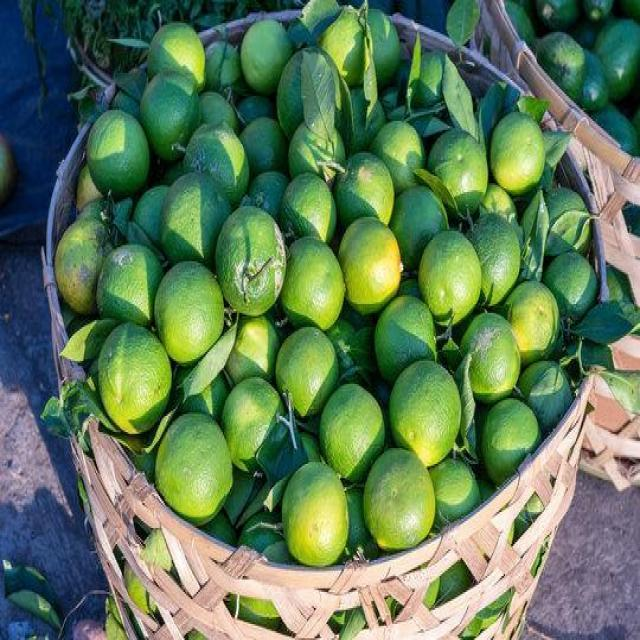Jeruk Belum Matang: (158, 412, 238, 524), (362, 444, 436, 554), (281, 458, 352, 572), (99, 326, 172, 436), (391, 360, 464, 468), (218, 206, 286, 310), (275, 48, 352, 137), (280, 236, 348, 334), (162, 174, 231, 268), (340, 222, 408, 315), (322, 384, 387, 480), (156, 263, 224, 354), (418, 226, 482, 322), (225, 380, 288, 473), (276, 328, 338, 422), (96, 245, 164, 329), (179, 126, 250, 206), (373, 296, 438, 381), (88, 110, 152, 196), (54, 220, 112, 314), (462, 313, 523, 398), (142, 73, 200, 160), (392, 185, 450, 272), (482, 400, 540, 487), (490, 114, 548, 198), (504, 277, 558, 363), (432, 128, 488, 210), (340, 151, 396, 229), (472, 214, 520, 302), (429, 457, 482, 535), (282, 172, 338, 245), (170, 356, 230, 422), (289, 117, 344, 187), (224, 316, 276, 388), (542, 187, 592, 260), (242, 18, 293, 89), (150, 23, 204, 89), (548, 254, 598, 322), (372, 121, 423, 185), (522, 361, 570, 427), (239, 116, 288, 172), (200, 39, 246, 94), (246, 170, 290, 220), (194, 86, 237, 132), (132, 187, 164, 240), (481, 187, 520, 230)
